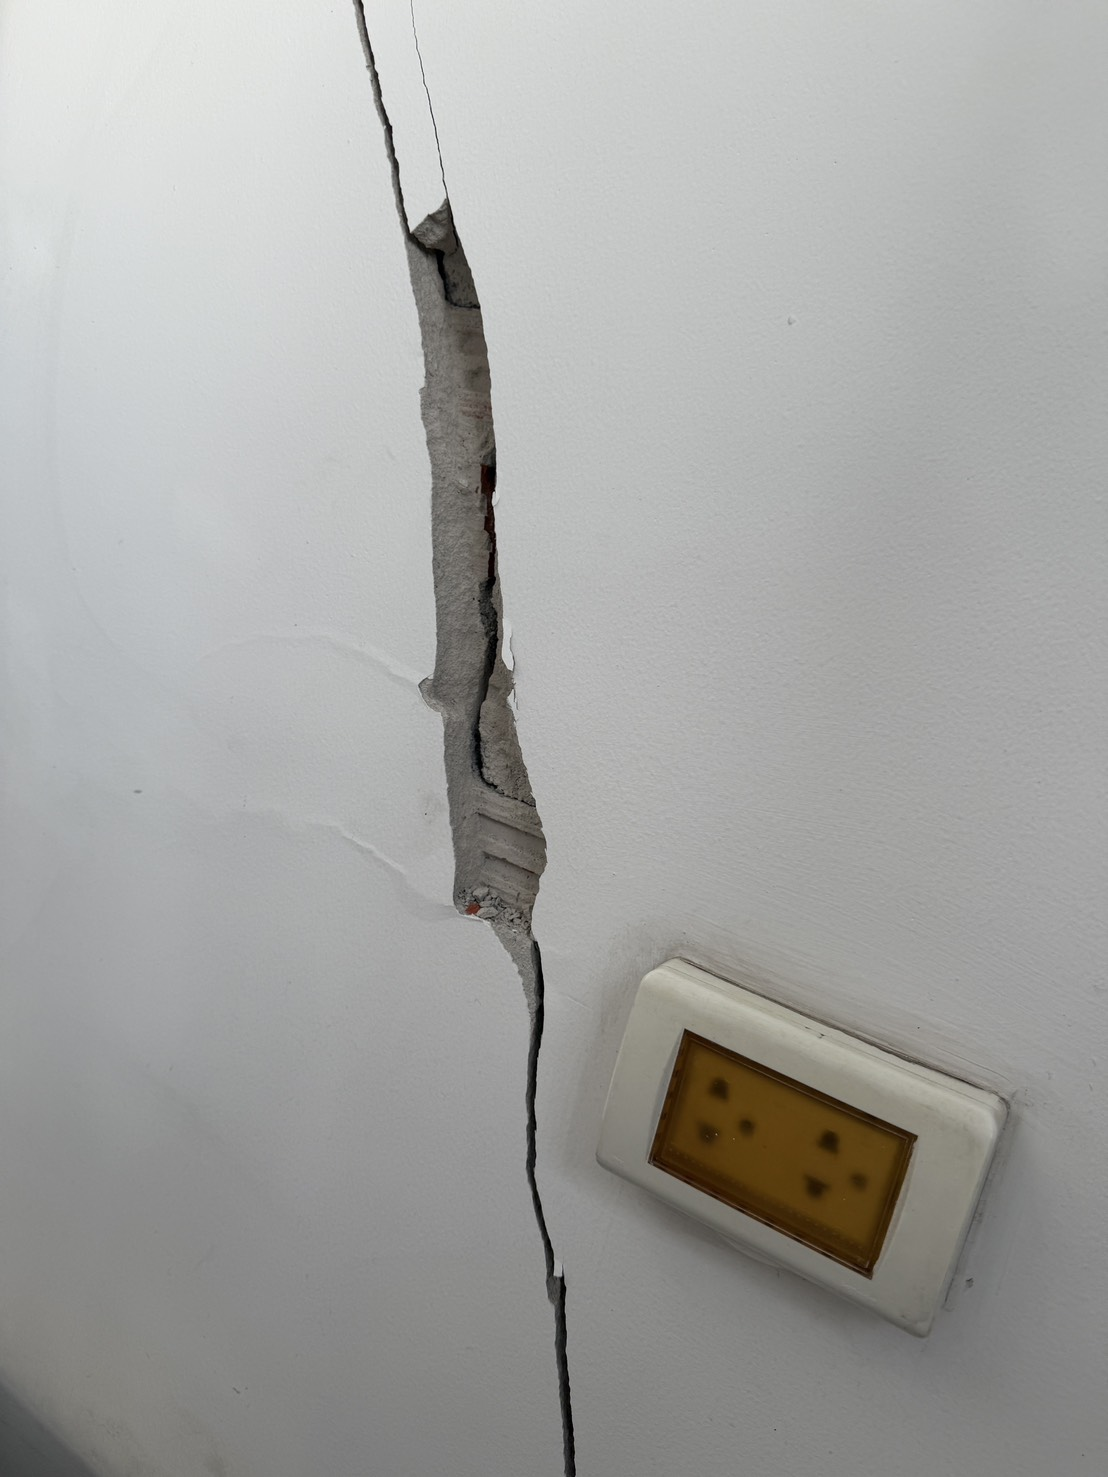Medium: (317, 88, 585, 1100)
